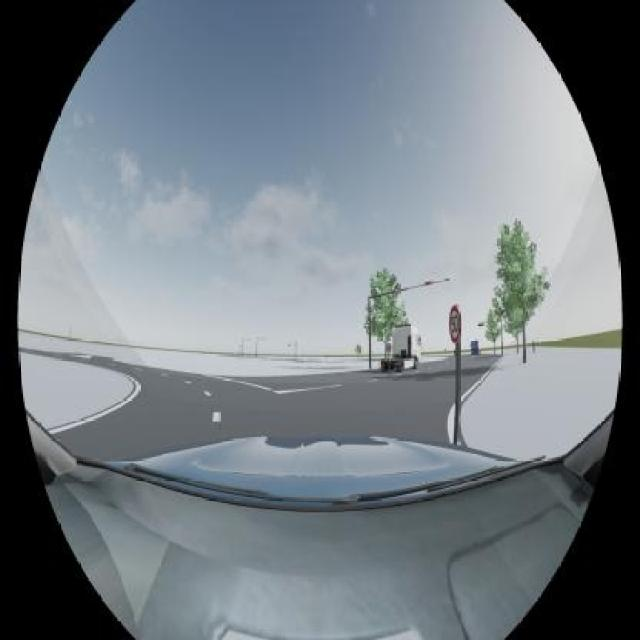forb_speed_over_50: (448, 305, 461, 343)
forb_speed_over_60: (386, 343, 392, 352)
